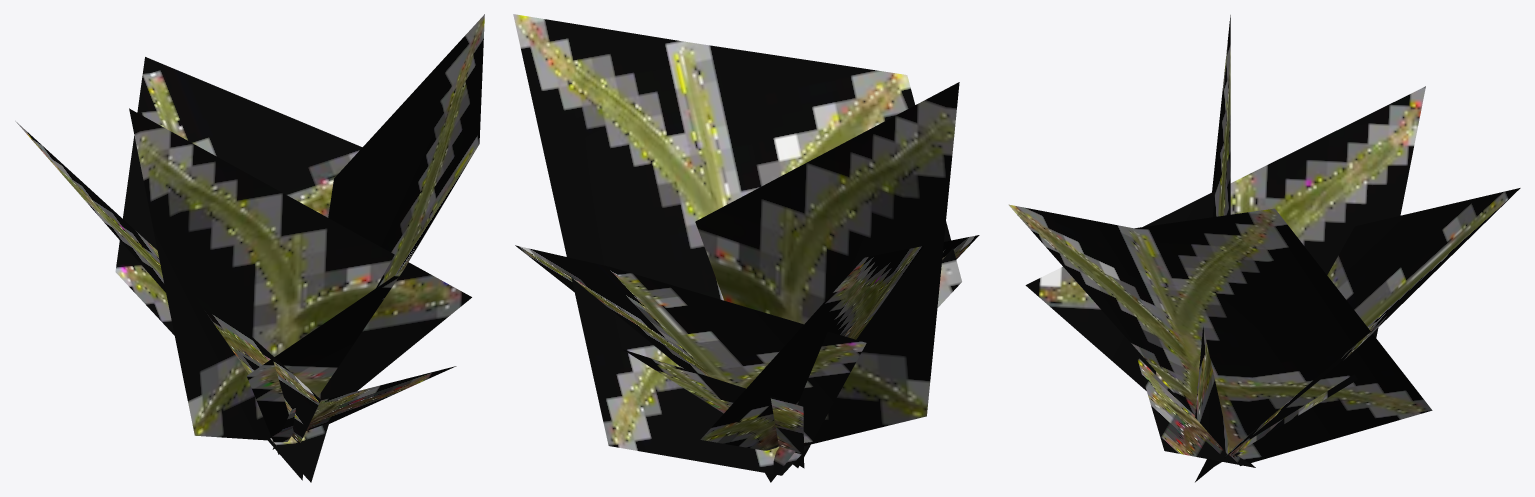
Rendered from grass-chunk-b.glb.
The picture shows the model from 3 angles, left to right: view 1: azimuth 30°, elevation 25°; view 2: azimuth 150°, elevation 25°; view 3: azimuth 270°, elevation 25°; orthographic projection. The views are drawn at different scales.
Parts seen in each view (by area): view 1: r12_a; view 2: r12_a; view 3: r12_a.
Part boxes in pixels (x1,y1,x2,y2): r12_a: (15,14,484,482); r12_a: (513,14,979,482); r12_a: (1008,15,1520,482).
Size of the model in its own units: 1.97 by 1.92 by 2.29.
Materials: 1 (1 with a texture image).
